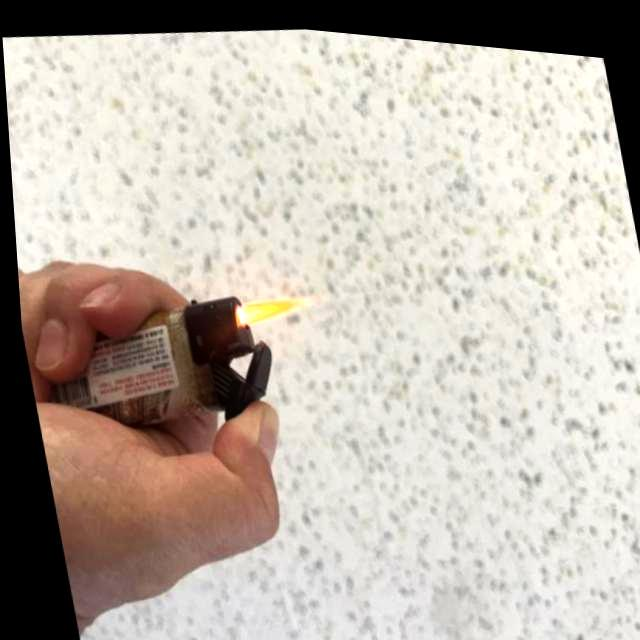fire: (230, 284, 306, 326)
